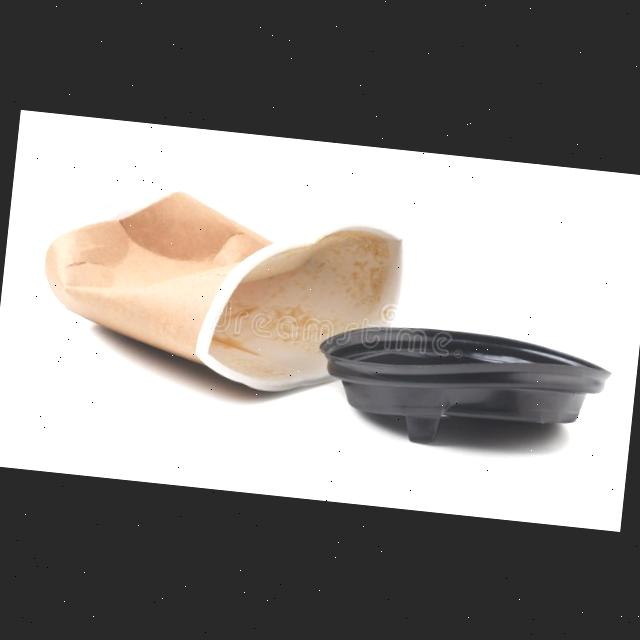trash: (29, 168, 417, 404)
